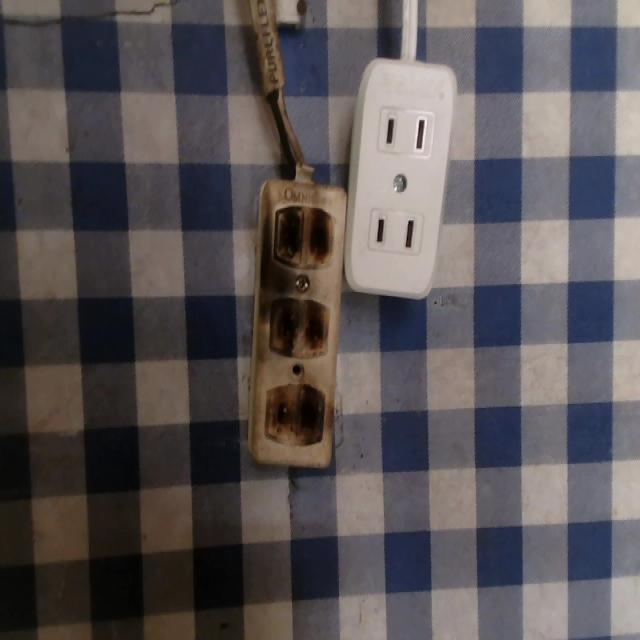-: (262, 291, 331, 358), (261, 380, 325, 449), (269, 196, 333, 264)
